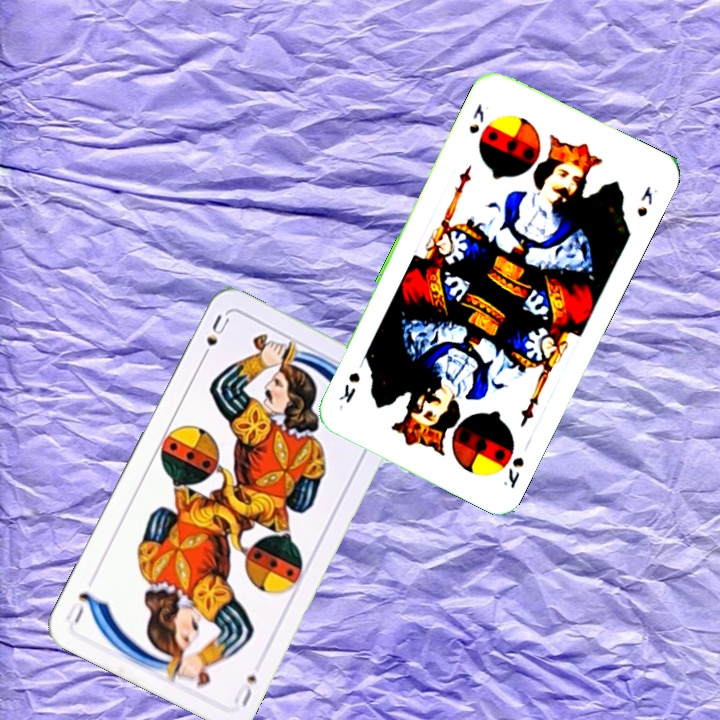SK: (499, 452, 527, 492), (464, 99, 487, 137)
SU: (196, 310, 232, 365), (229, 671, 260, 710)
